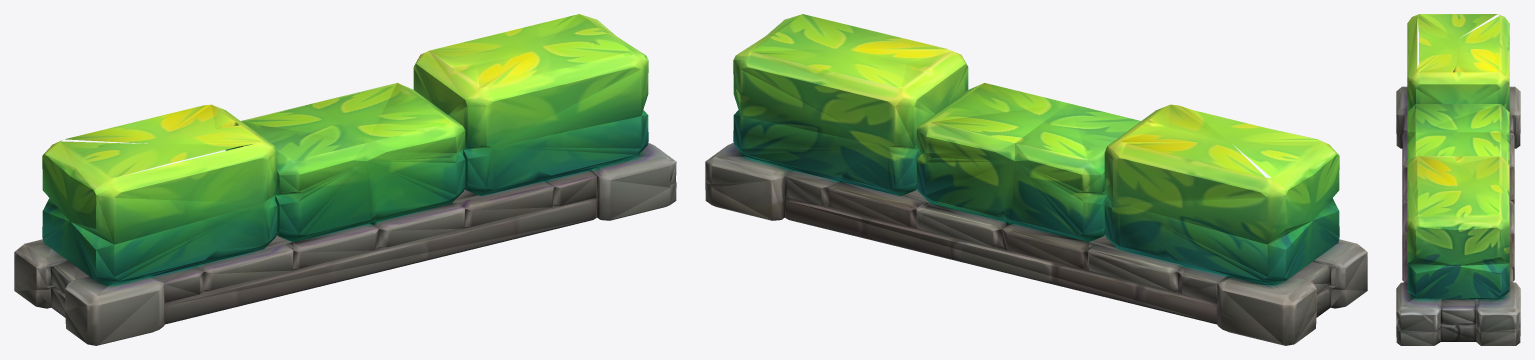
Rendered from hedge.glb.
3 renders of one model, left to right at view 1: azimuth 30°, elevation 25°; view 2: azimuth 150°, elevation 25°; view 3: azimuth 270°, elevation 25°, orthographic. The views are drawn at different scales.
Parts seen in each view (by area): view 1: tripo_node_c348c8b3-3ba0-4430-8930-594eba93d391; view 2: tripo_node_c348c8b3-3ba0-4430-8930-594eba93d391; view 3: tripo_node_c348c8b3-3ba0-4430-8930-594eba93d391.
Boxes of the visible parts, x1,y1,x2,y2 form: tripo_node_c348c8b3-3ba0-4430-8930-594eba93d391: [14, 14, 676, 345]; tripo_node_c348c8b3-3ba0-4430-8930-594eba93d391: [705, 14, 1367, 345]; tripo_node_c348c8b3-3ba0-4430-8930-594eba93d391: [1396, 14, 1520, 345].
Bounding box in the file's own units: 32 × 8.01 × 7.4.
Materials: 1 (1 with a texture image).
